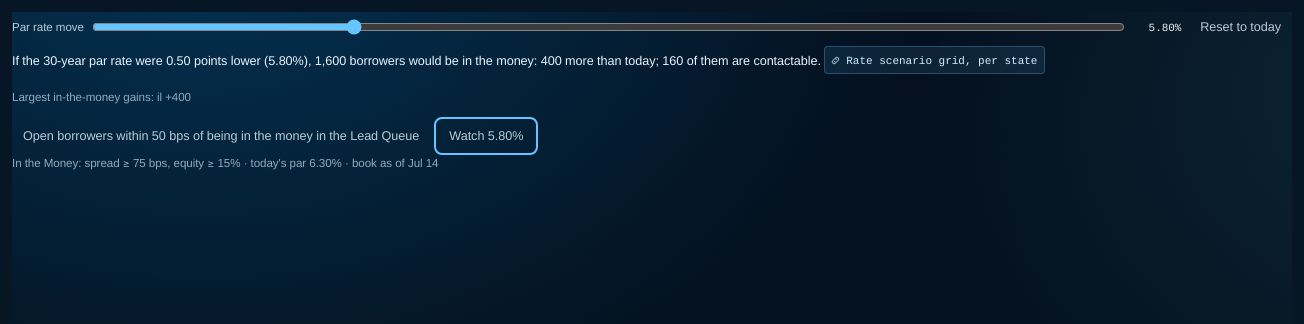
it: RateWatchControl › posts the step, the cadence and an id only, and is pessimistic until the server answers
Click the button "Watch 5.80%" at (486, 136), box [438,120,534,150]
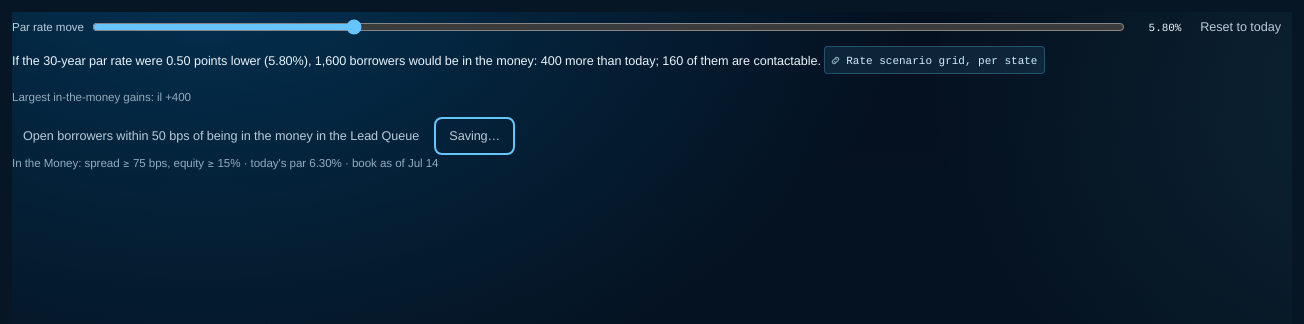
Now the button "Saving…" is shown
Now the button "Saving…" is enabled
Click the button "Saving…" at (475, 136), box [438,120,511,150]
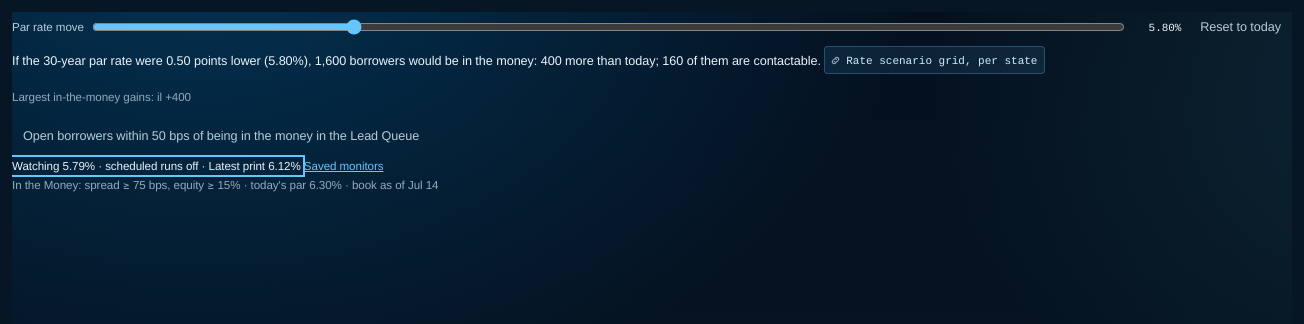
Now the message with class "rate-lever__watching" reads "Watching 5.79% · scheduled runs off · Latest print 6.12%", box [12,158,301,172]
